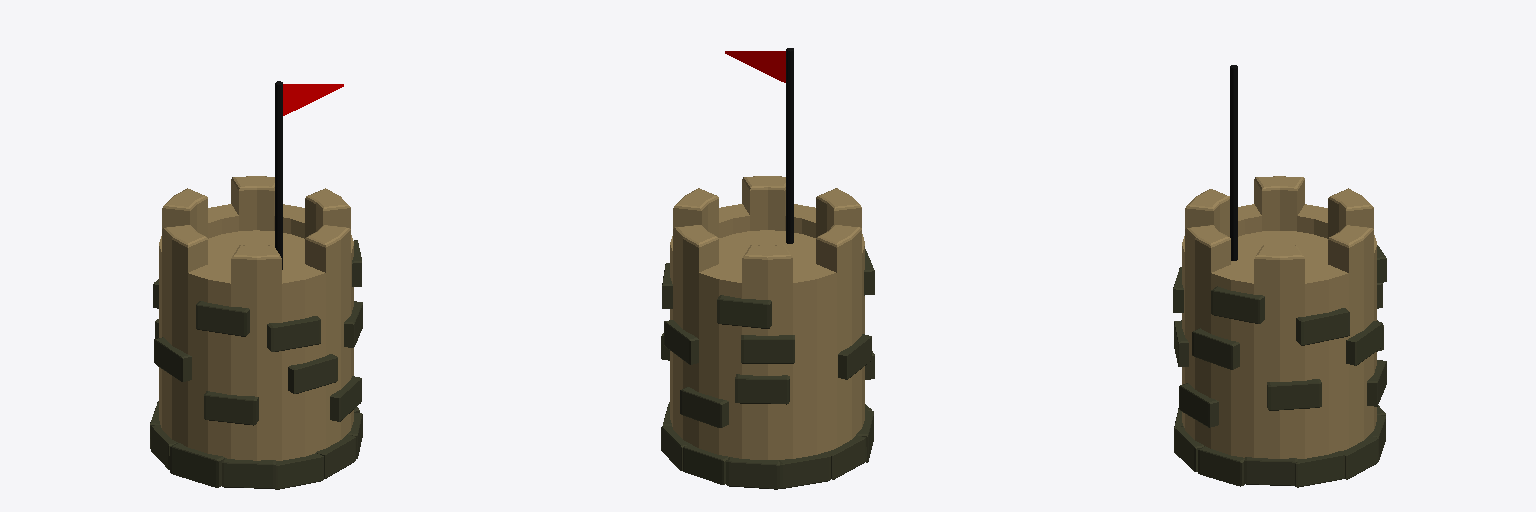
The model's file is ArcherTower_Level2_RedTeam.obj.
3 renders of one model, left to right at view 1: azimuth 30°, elevation 25°; view 2: azimuth 150°, elevation 25°; view 3: azimuth 270°, elevation 25°, orthographic.
Parts seen in each view (by area): view 1: ArcherTower_Level2_RedTeam_Cylinder.004, RedFlag_Cube.042; view 2: ArcherTower_Level2_RedTeam_Cylinder.004, RedFlag_Cube.042; view 3: ArcherTower_Level2_RedTeam_Cylinder.004.
Boxes of the visible parts, x1=… form: ArcherTower_Level2_RedTeam_Cylinder.004: x1=150, y1=81, x2=362, y2=489; RedFlag_Cube.042: x1=283, y1=84, x2=343, y2=115; ArcherTower_Level2_RedTeam_Cylinder.004: x1=661, y1=48, x2=874, y2=489; RedFlag_Cube.042: x1=725, y1=51, x2=785, y2=82; ArcherTower_Level2_RedTeam_Cylinder.004: x1=1173, y1=65, x2=1386, y2=487.
Size of the model in its own units: 13.16 by 25.76 by 13.12.